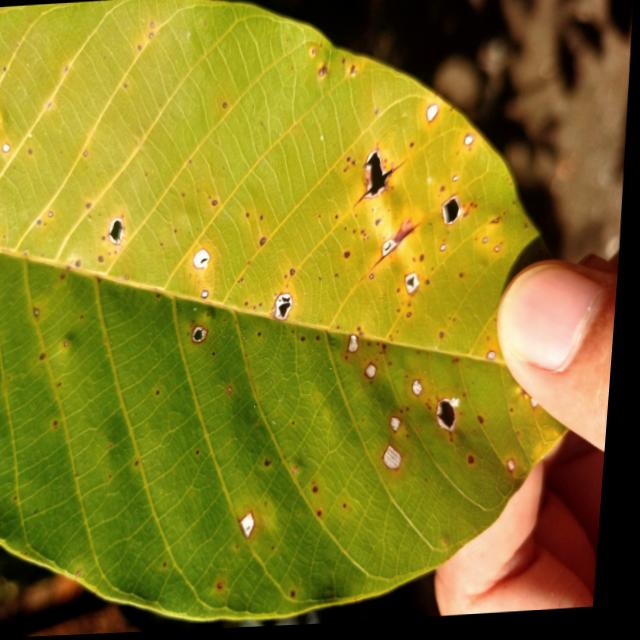Colletotrichum: (197, 249, 215, 270), (196, 325, 214, 344), (427, 106, 440, 126), (352, 336, 364, 356), (395, 418, 408, 435), (370, 365, 382, 381), (417, 383, 428, 399), (491, 354, 502, 364), (464, 138, 475, 148), (514, 463, 522, 475), (4, 142, 13, 152), (205, 290, 213, 300), (37, 307, 44, 316), (79, 259, 86, 268), (483, 418, 490, 427), (264, 238, 270, 247), (475, 459, 481, 468), (348, 253, 354, 261), (497, 249, 503, 256), (443, 247, 449, 254), (410, 314, 417, 320), (299, 592, 305, 599), (227, 582, 232, 590), (102, 256, 108, 262), (455, 179, 461, 185), (294, 270, 299, 277), (51, 211, 56, 217), (486, 241, 491, 247), (373, 276, 379, 281), (320, 488, 325, 494), (86, 151, 90, 157), (90, 203, 94, 209), (325, 512, 329, 518), (321, 337, 325, 342), (262, 333, 267, 337), (412, 146, 416, 150), (306, 339, 310, 343), (250, 303, 253, 307), (217, 353, 220, 357)
Corynespora: (371, 226, 422, 275)
